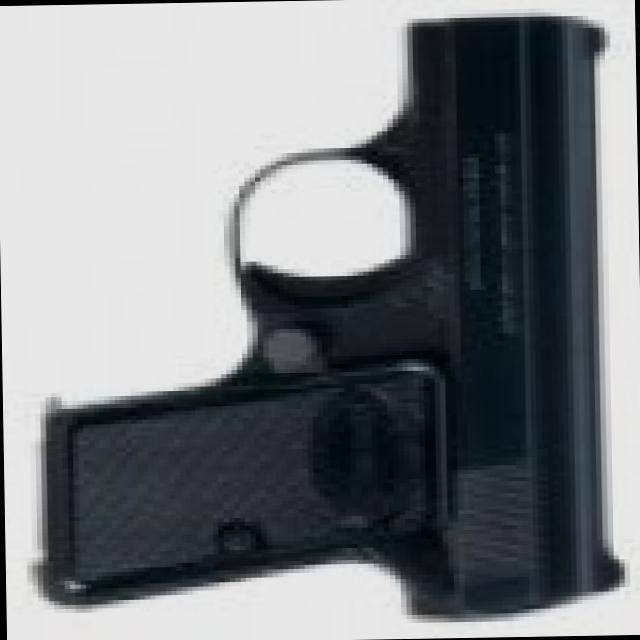handgun: (38, 6, 634, 616)
